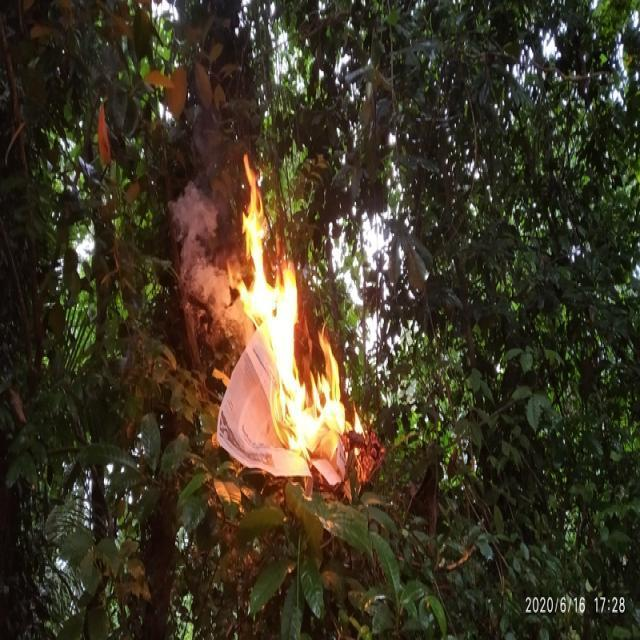fire: (242, 157, 272, 320), (276, 262, 301, 454), (319, 337, 348, 460)
